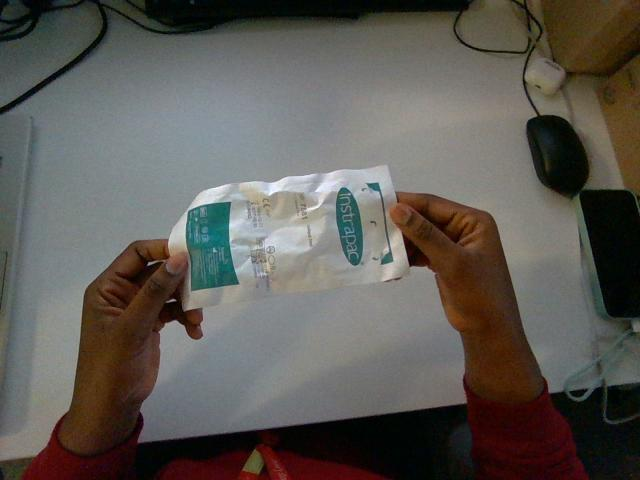gallipot: (169, 166, 408, 309)
